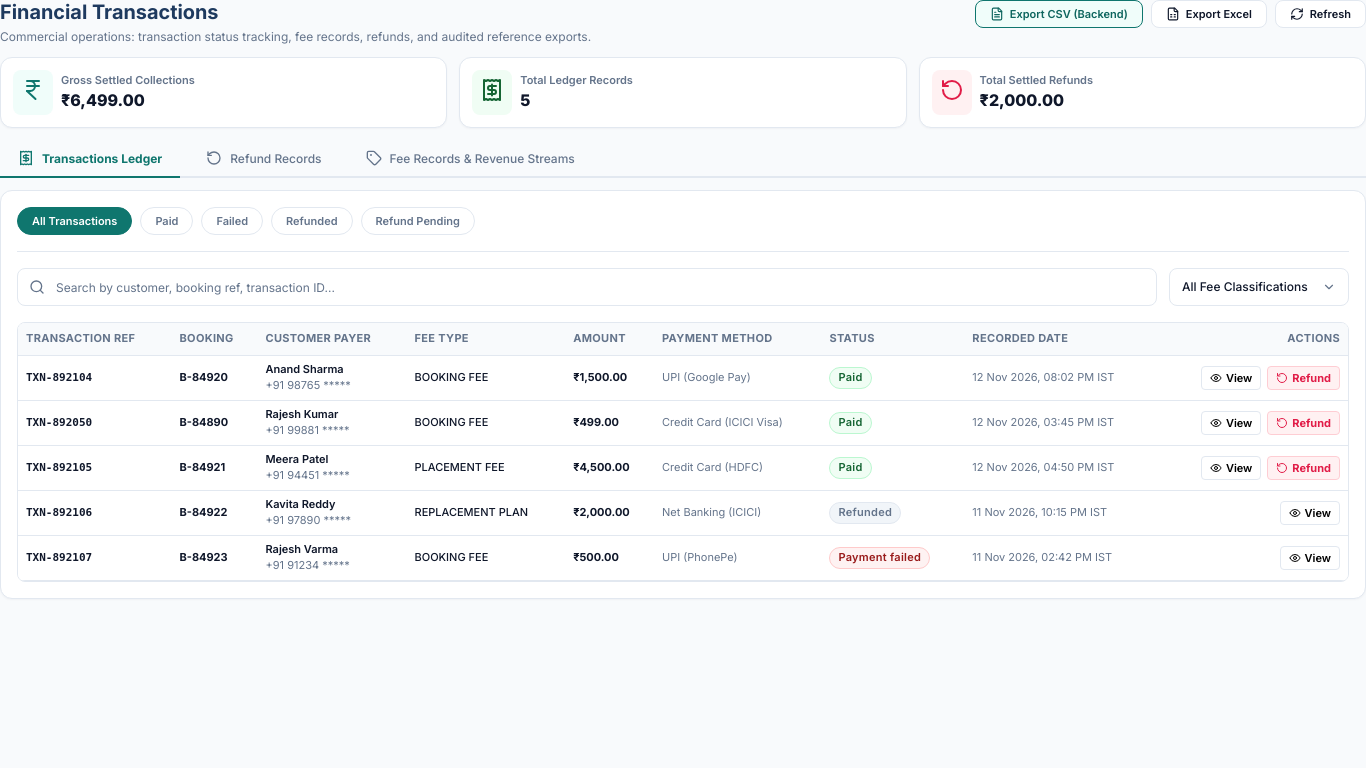
Payment Transaction Details Modal — Action Buttons Verification › 3. "Process Refund" Action & Permissions › shows pending message when backend returns REFUND_PENDING
The width and height of the screenshot is (1366, 768).
Click the button with aria-label "View" at [683, 378], box [18,356,1348,401]
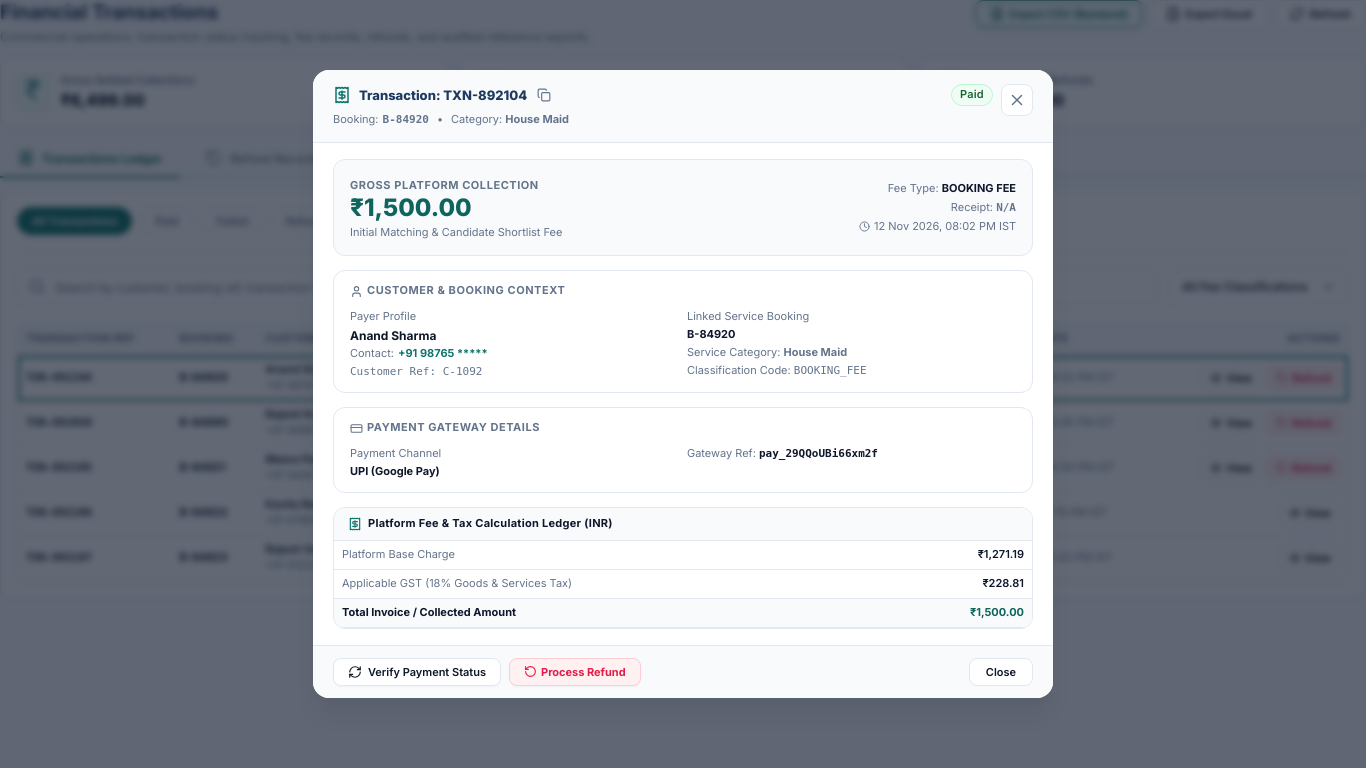
Click the button "Process Refund" at [575, 672], box [509,658,641,686]
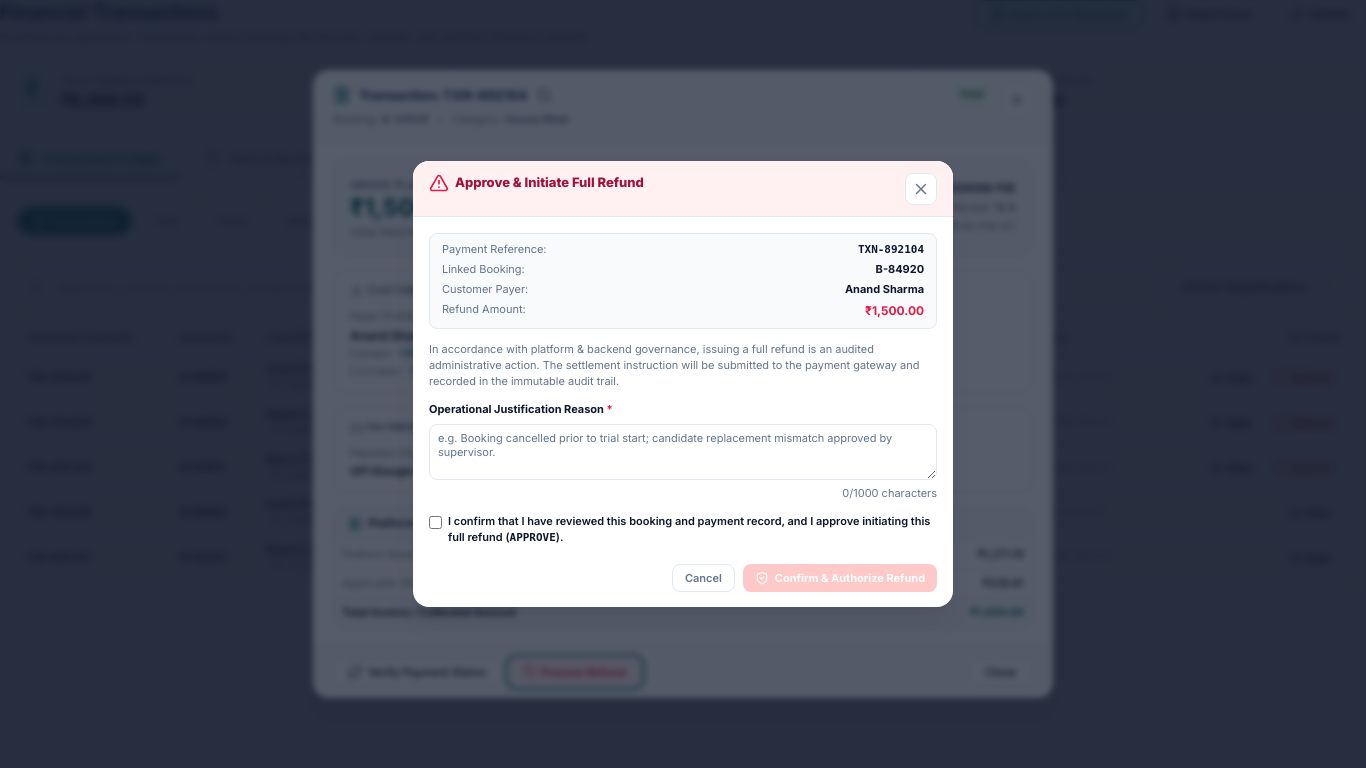
Type "Customer requested service cancellation." into the text box labelled "Operational Justification Reason *" at [683, 452], box [429,424,937,480]
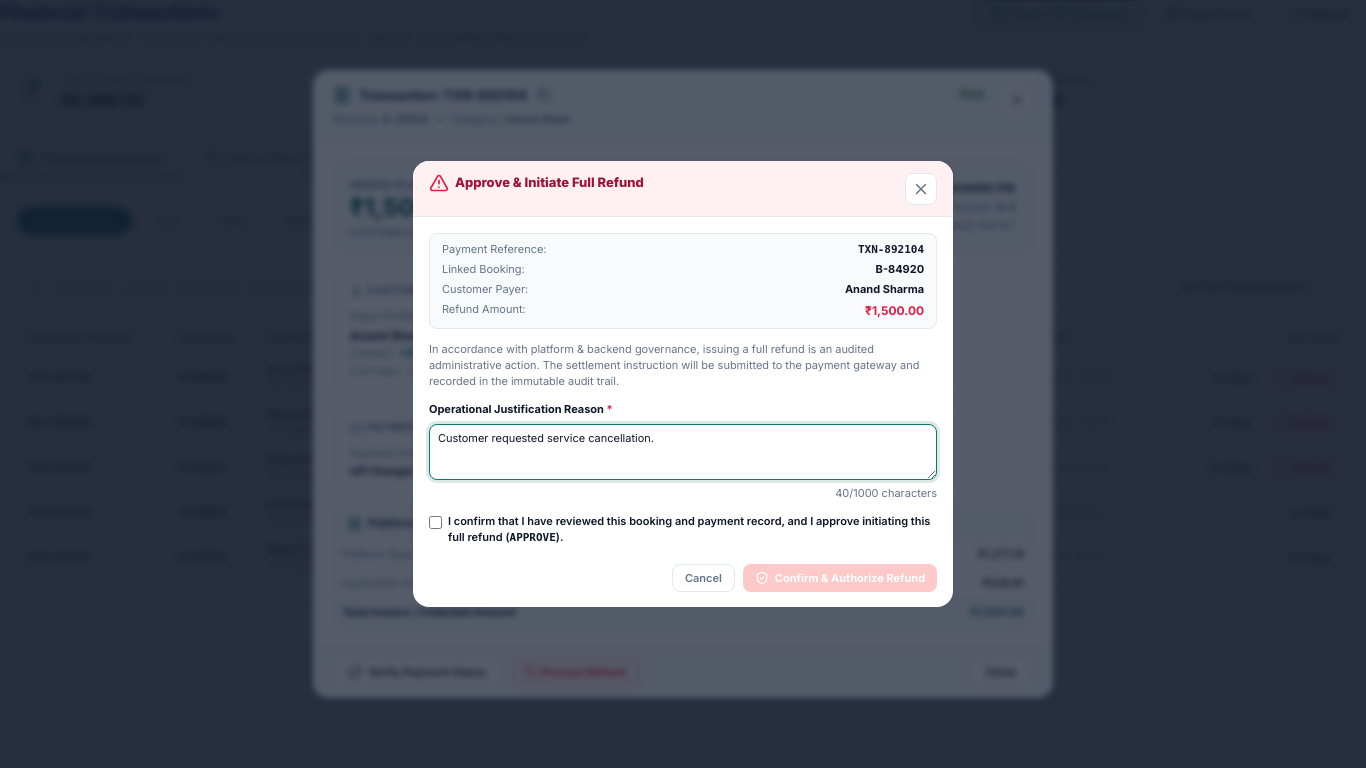
Click the checkbox at [436, 522], box [429,516,442,529]
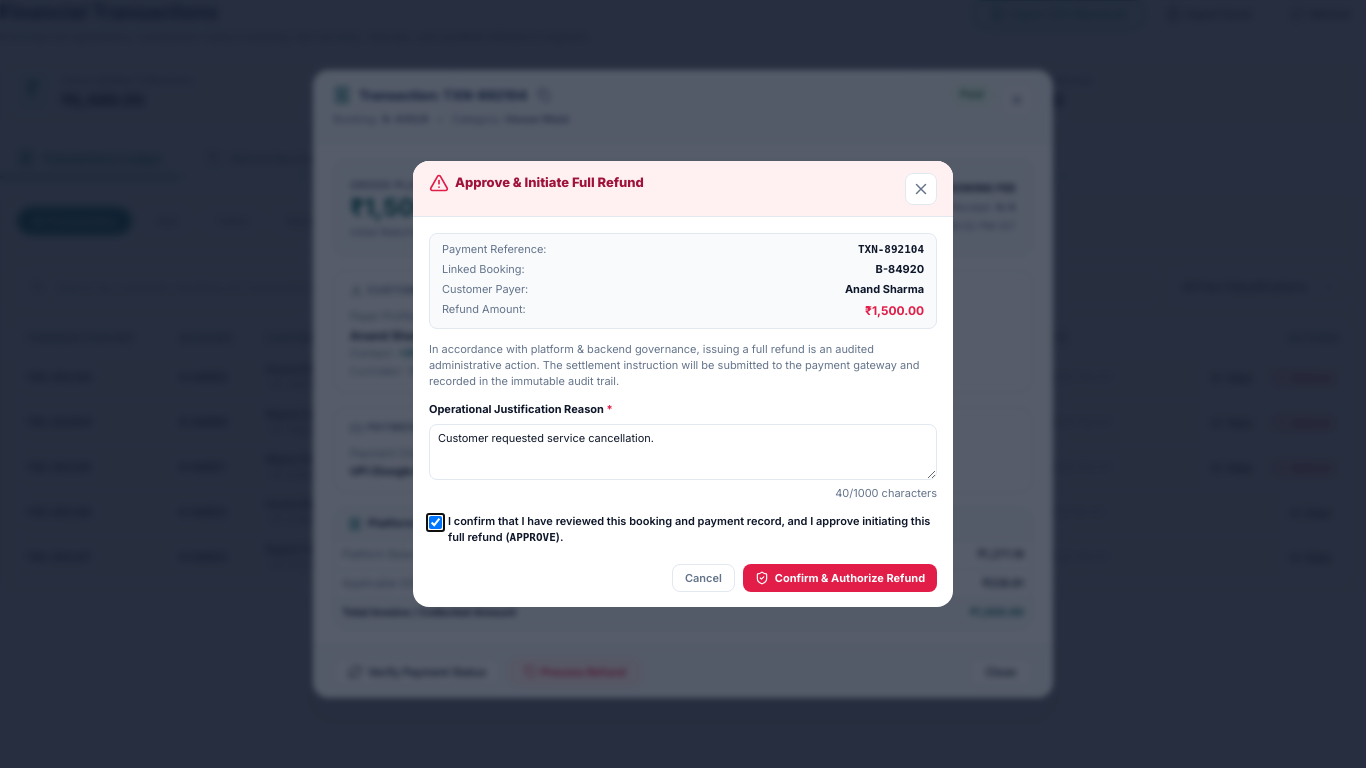
Click the button "Confirm & Authorize Refund" at [840, 578], box [743,564,937,592]
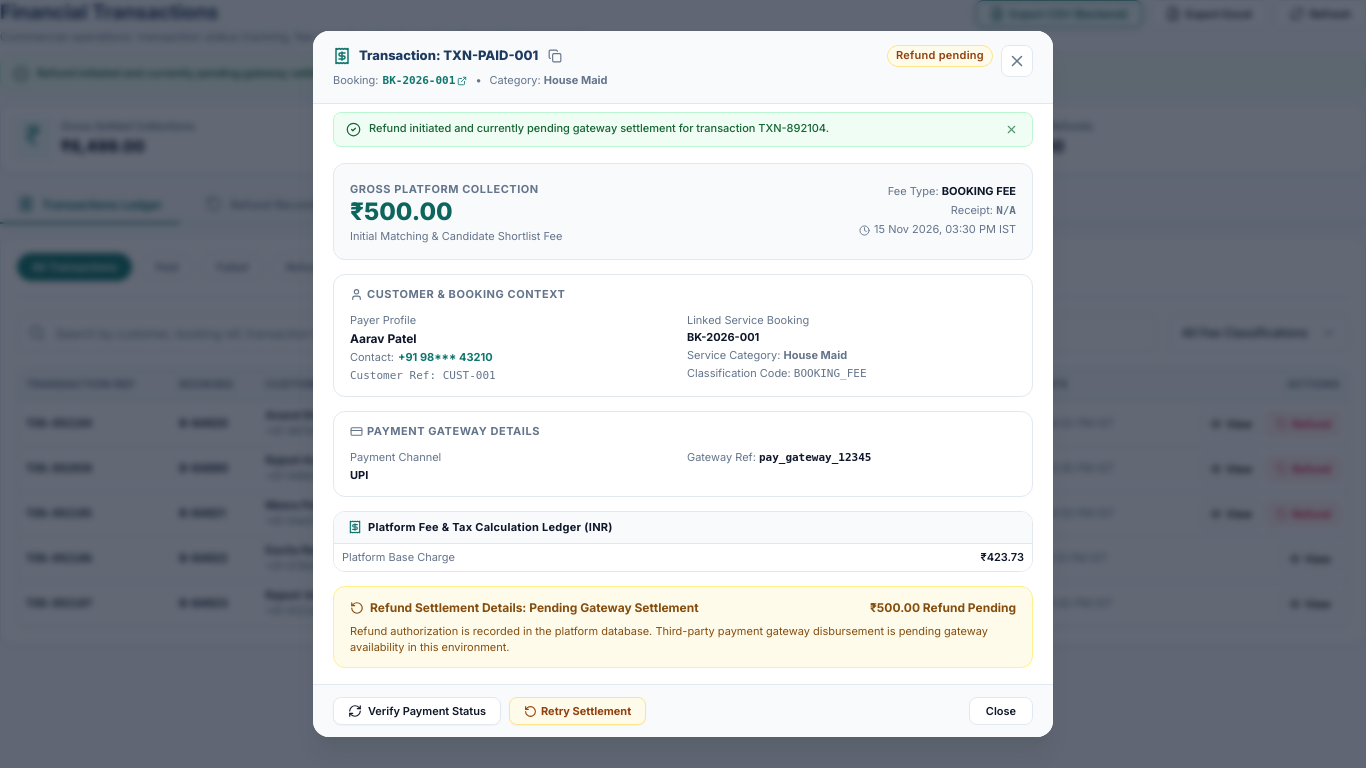
Now the message with test id "action-feedback-banner" shows "pending gateway settlement", box [37,66,503,80]
